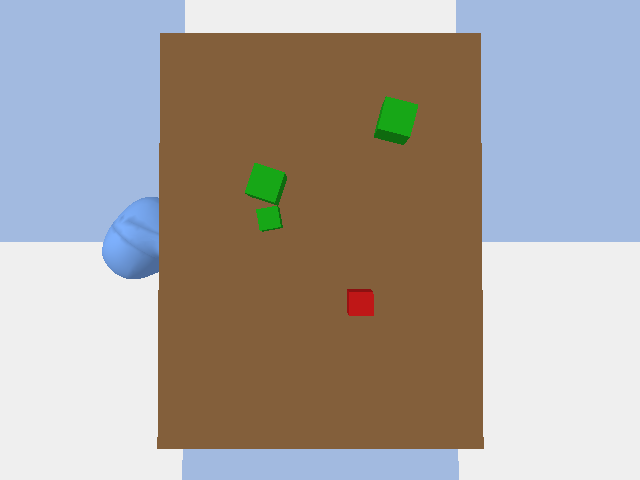green_obj: (374, 96, 417, 144), (245, 163, 286, 205), (256, 206, 282, 231)
red_obj: (347, 289, 373, 315)
